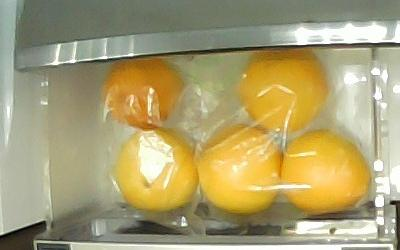grapefruit_vinyl: (236, 49, 330, 133), (279, 127, 370, 213), (195, 121, 280, 213), (112, 126, 199, 209), (100, 56, 184, 128)
